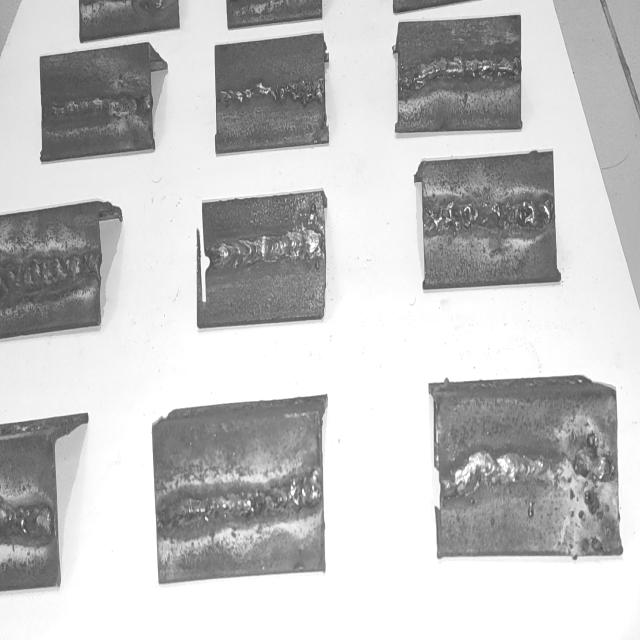Defect: (569, 433, 613, 544), (426, 204, 549, 236), (0, 504, 52, 541)
Good Weld: (160, 475, 321, 526), (440, 448, 550, 502), (211, 227, 320, 271), (1, 251, 98, 298), (402, 56, 520, 91), (47, 90, 151, 120), (218, 81, 323, 108)
